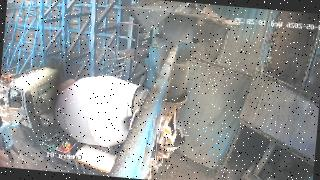cement_mixer_truck: (0, 62, 190, 180)
swing_chute: (151, 33, 200, 100)
